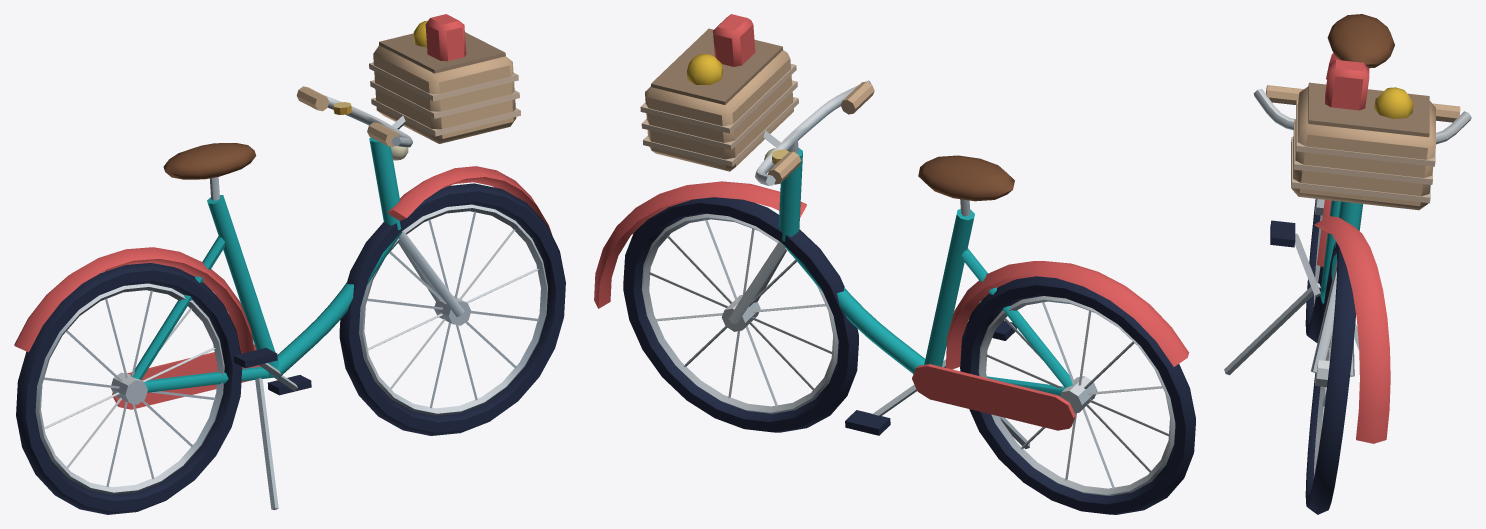
The model's file is bike.glb.
3 renders of one model, left to right at view 1: azimuth 30°, elevation 25°; view 2: azimuth 150°, elevation 25°; view 3: azimuth 270°, elevation 25°, orthographic. The views are drawn at different scales.
Parts seen in each view (by area): view 1: Bike; view 2: Bike; view 3: Bike.
Part boxes in pixels (bbox=[...]): Bike: bbox=[14, 14, 565, 514]; Bike: bbox=[594, 14, 1195, 514]; Bike: bbox=[1224, 14, 1471, 514].
Bounding box in the file's own units: 1.73 × 1.19 × 0.6112.
